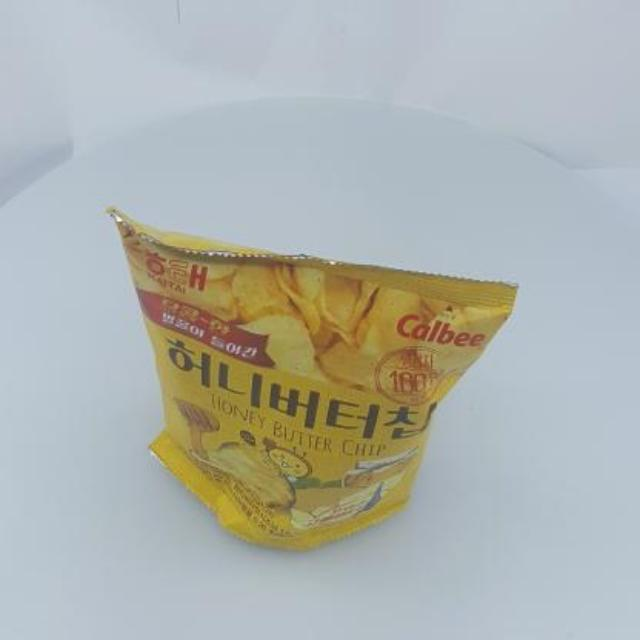snack_bag: (98, 197, 526, 566)
